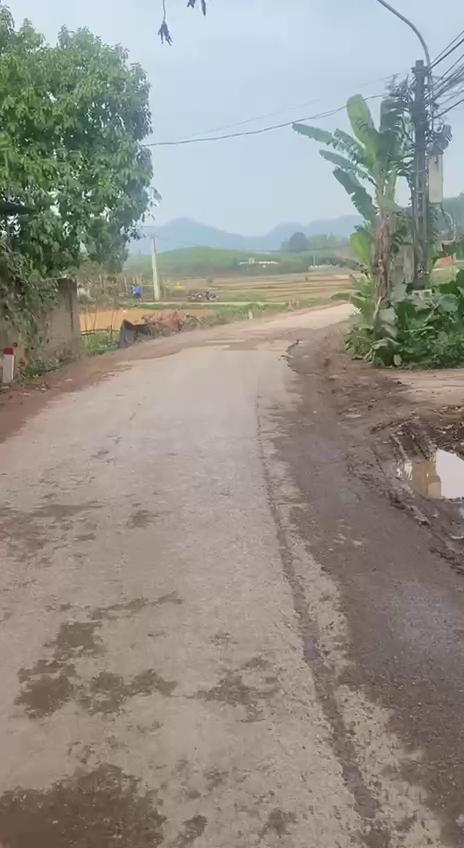pothole: (379, 440, 464, 519)
